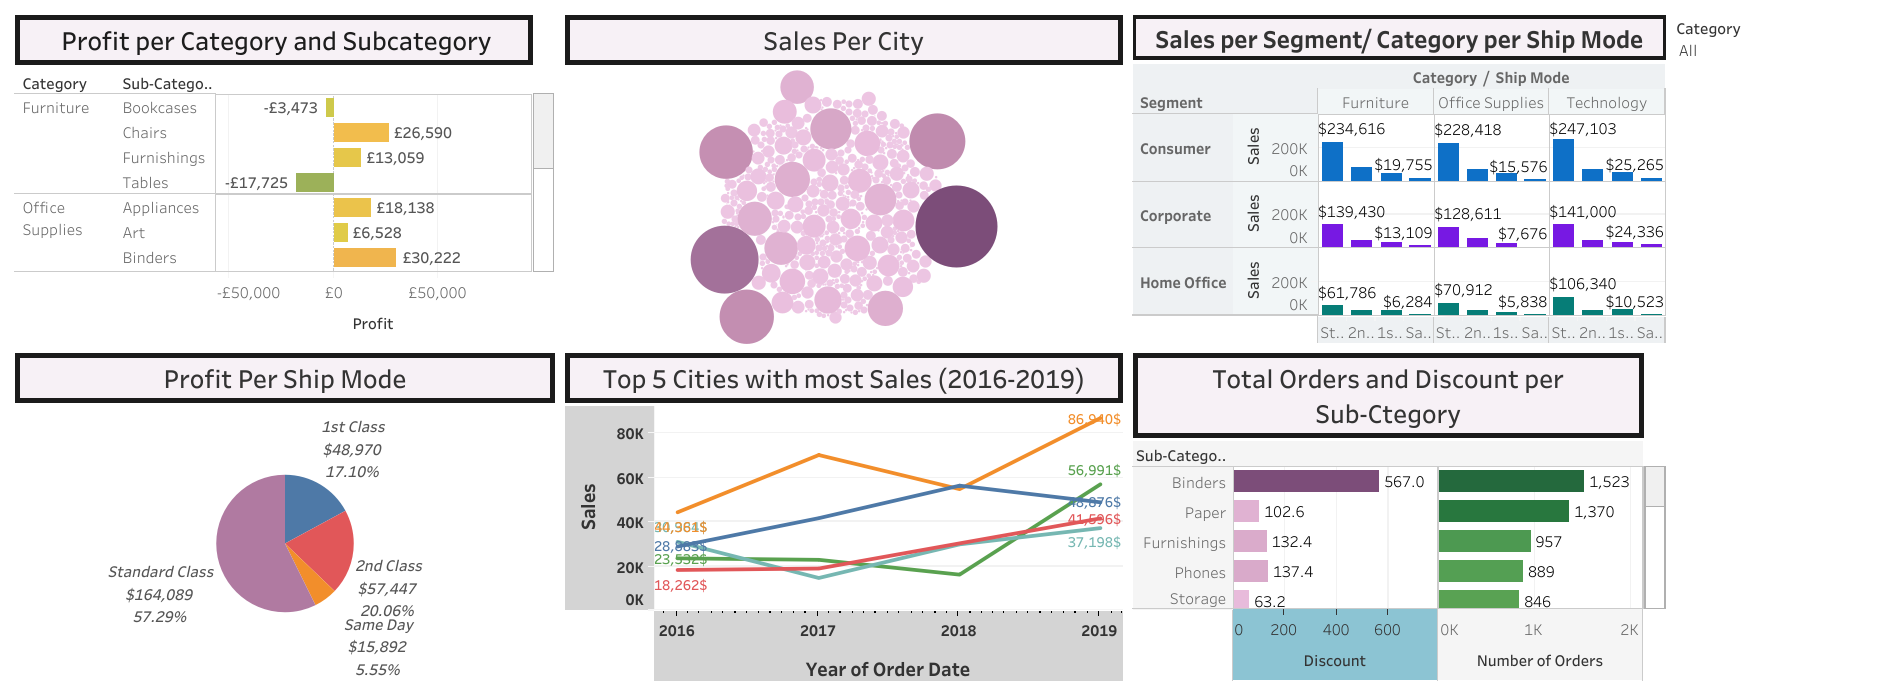

What the dashboard file says about the page in this screenshot:
{"tool":"tableau","page":{"name":"Dashboard 1","canvas":[1000,1000],"units":"permille","ordinal":0},"visuals":[{"type":"worksheet","title":"Task 1","mark":"Automatic","rows":["Category","Sub-Category"],"cols":["Profit"],"box":[4.8,9.3,295.7,490.7]},{"type":"worksheet","title":"Task 3","mark":"Circle","box":[300.5,9.3,305.4,490.7]},{"type":"worksheet","title":"Task 5","mark":"Automatic","rows":["Segment","Sales"],"cols":["Category","Ship Mode"],"box":[605.9,9.3,292.7,490.7]},{"type":"filter","title":"Task 5","param":"[federated.1x9z8nx03e7t4m1fzoqjs0lcuyhv].[none:Category:nk]","box":[898.6,9.3,96.6,103.4]},{"type":"worksheet","title":"Task 2","mark":"Pie","box":[4.8,500,295.7,490.7]},{"type":"worksheet","title":"Task 4","mark":"Automatic","rows":["Sales"],"cols":["Order Date"],"box":[300.5,500,305.4,490.7]},{"type":"worksheet","title":"Task 6","mark":"Bar","rows":["Sub-Category"],"cols":["Discount","Orders_C3C050898DAD4C8885DB14CB4FEE268F"],"box":[605.9,500,292.7,490.7]}]}

Visuals, with their boxes on the dashboard's canvas, which has no fixed pixel size, in thousandths of its width and height (x1, y1, x2, y2). These are canvas units, not pixel positions in the 1880x695 screenshot, which may show the page scaled, cropped or inside an application window:
"Task 1" worksheet: rect(5, 9, 300, 500)
"Task 3" worksheet (Circle marks): rect(300, 9, 606, 500)
"Task 5" worksheet: rect(606, 9, 899, 500)
"Task 5" filter: rect(899, 9, 995, 113)
"Task 2" worksheet (Pie marks): rect(5, 500, 300, 991)
"Task 4" worksheet: rect(300, 500, 606, 991)
"Task 6" worksheet (Bar marks): rect(606, 500, 899, 991)
